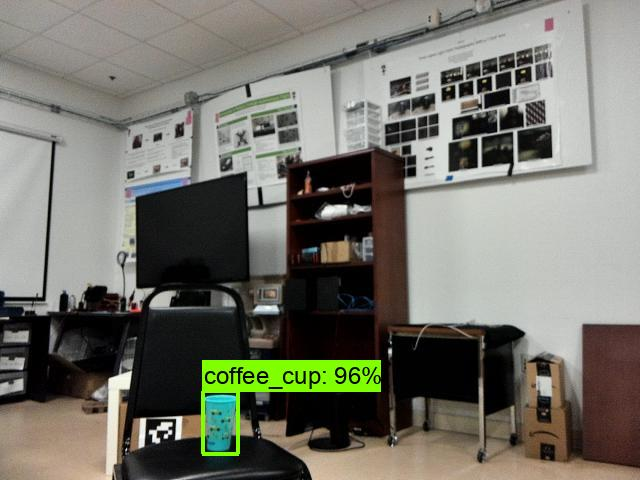coffee_cup: (202, 392, 240, 452)
